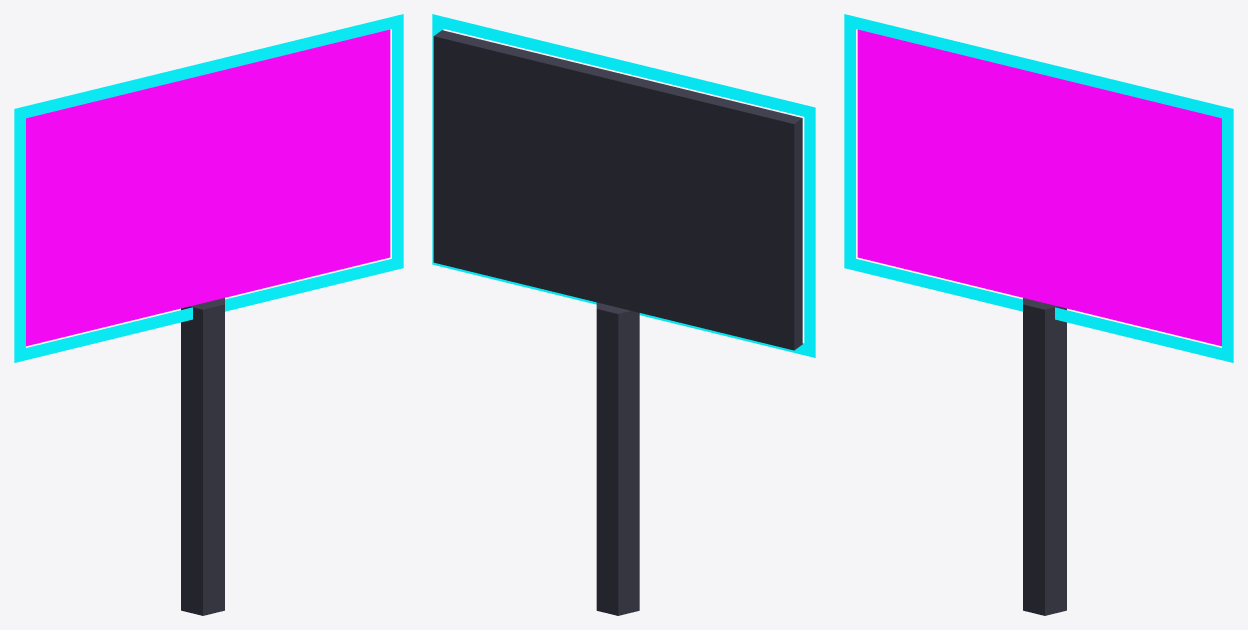
Rendered from prop_billboard.glb.
3 views of the same model, side by side, from view 1: azimuth 30°, elevation 25°; view 2: azimuth 150°, elevation 25°; view 3: azimuth 330°, elevation 25° (orthographic).
Parts seen in each view (by area): view 1: prop_billboard; view 2: prop_billboard; view 3: prop_billboard.
Boxes of the visible parts, x1,y1,x2,y2 form: prop_billboard: (14,14,403,615); prop_billboard: (432,14,815,615); prop_billboard: (844,14,1233,615).
Size of the model in its own units: 2.66 by 3.58 by 0.2598.
